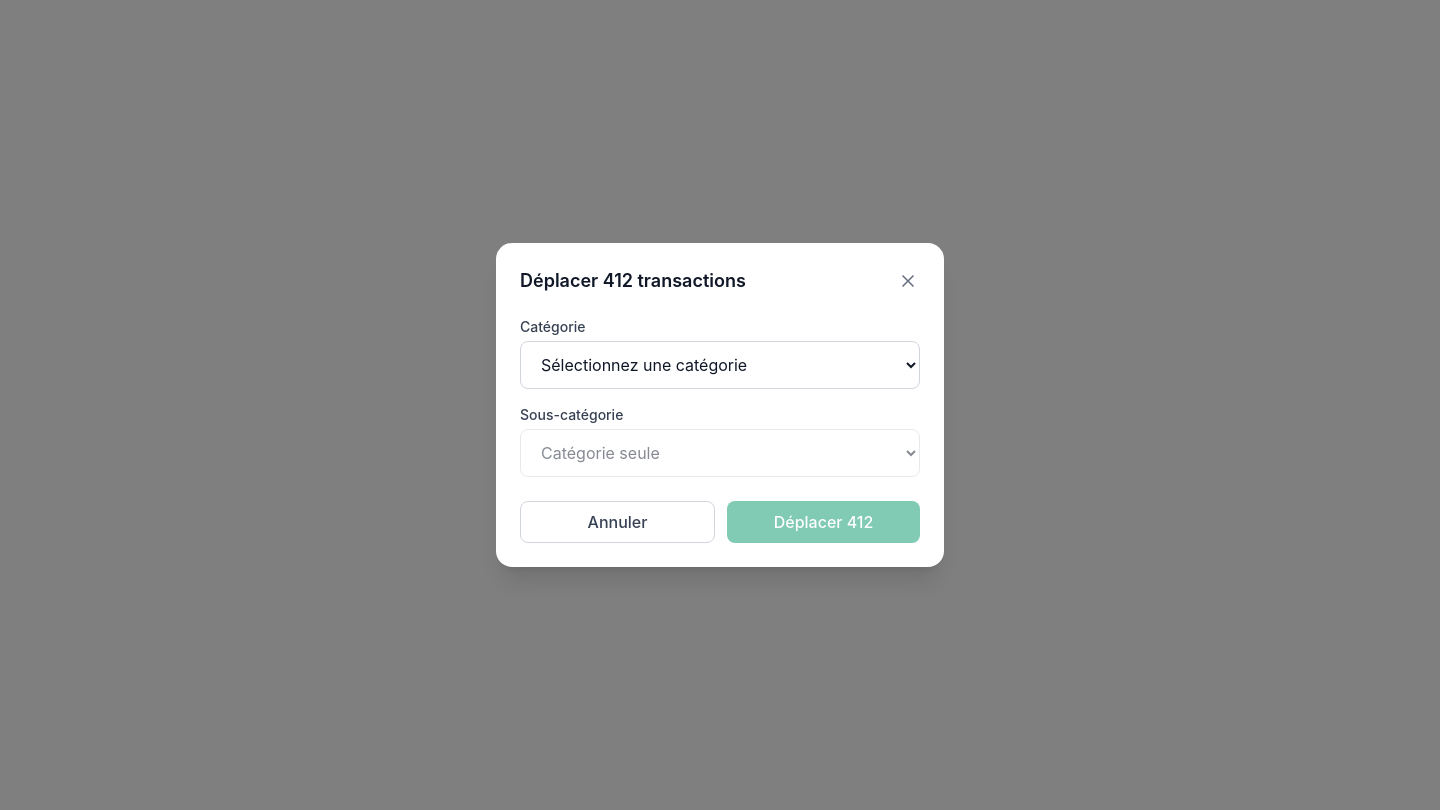
Test: BulkCategoryModal › says the current subcategories will be dropped when none is picked
Select "Alimentation" in the dropdown with test id "bulk-category-select": (720, 365) top-left (520, 341), bottom-right (920, 389)
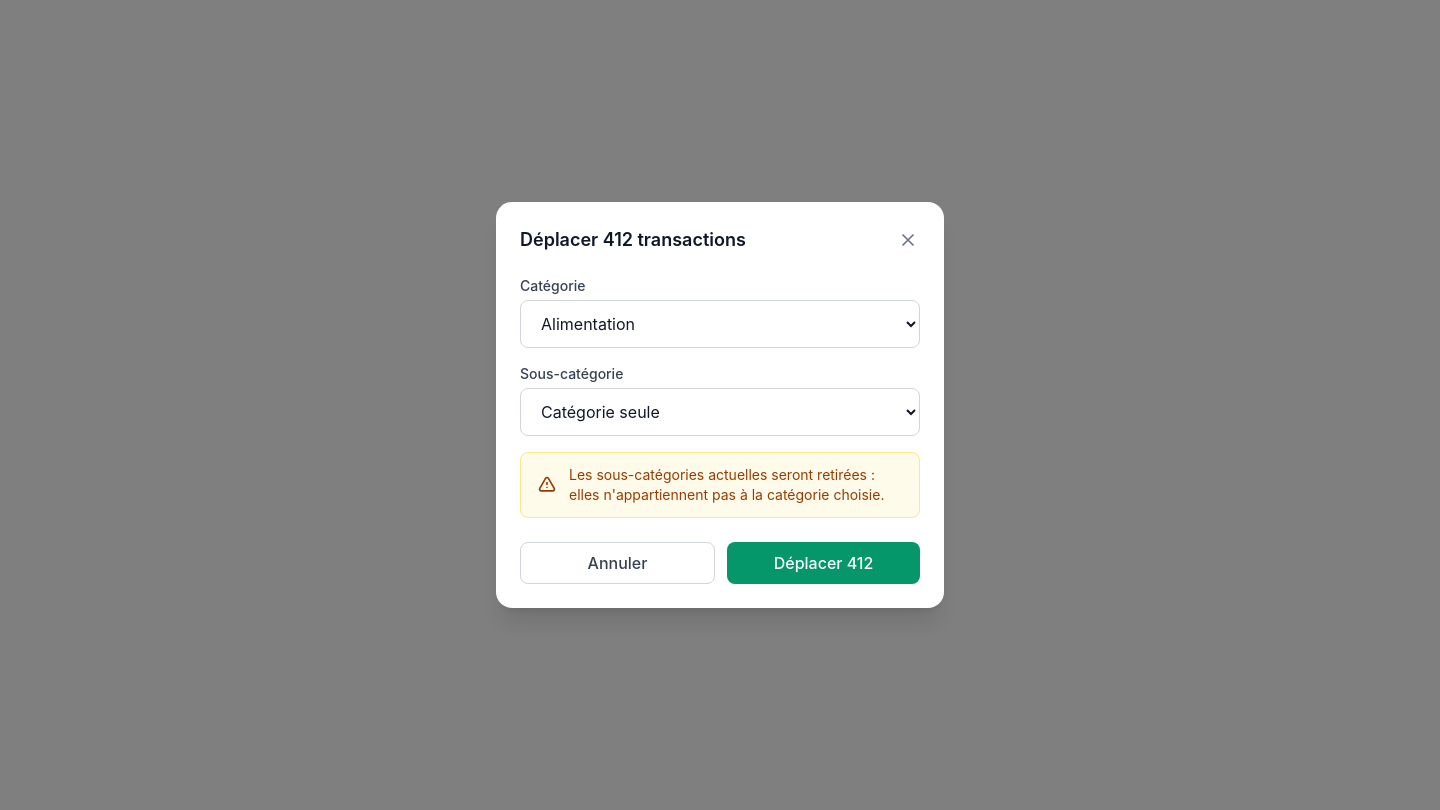
Check: the message with test id "bulk-subcategory-warning" shows "retirées", box top-left (569, 466), bottom-right (884, 503)
